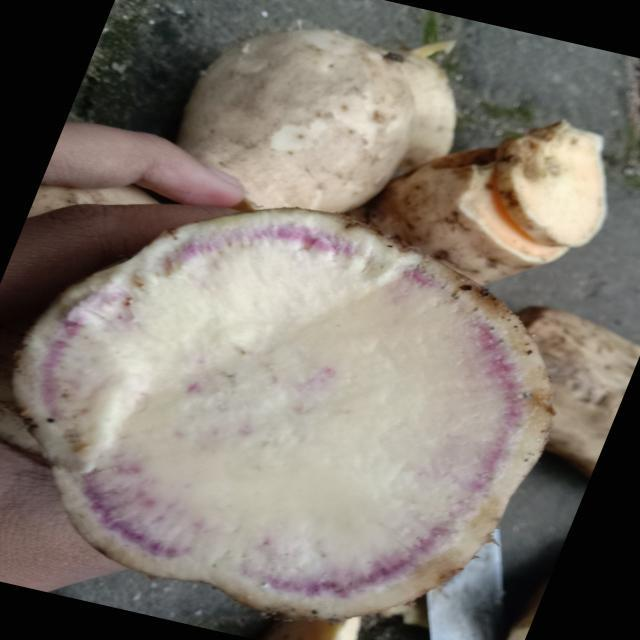Healthy Sweet Potato: (13, 209, 552, 621)
